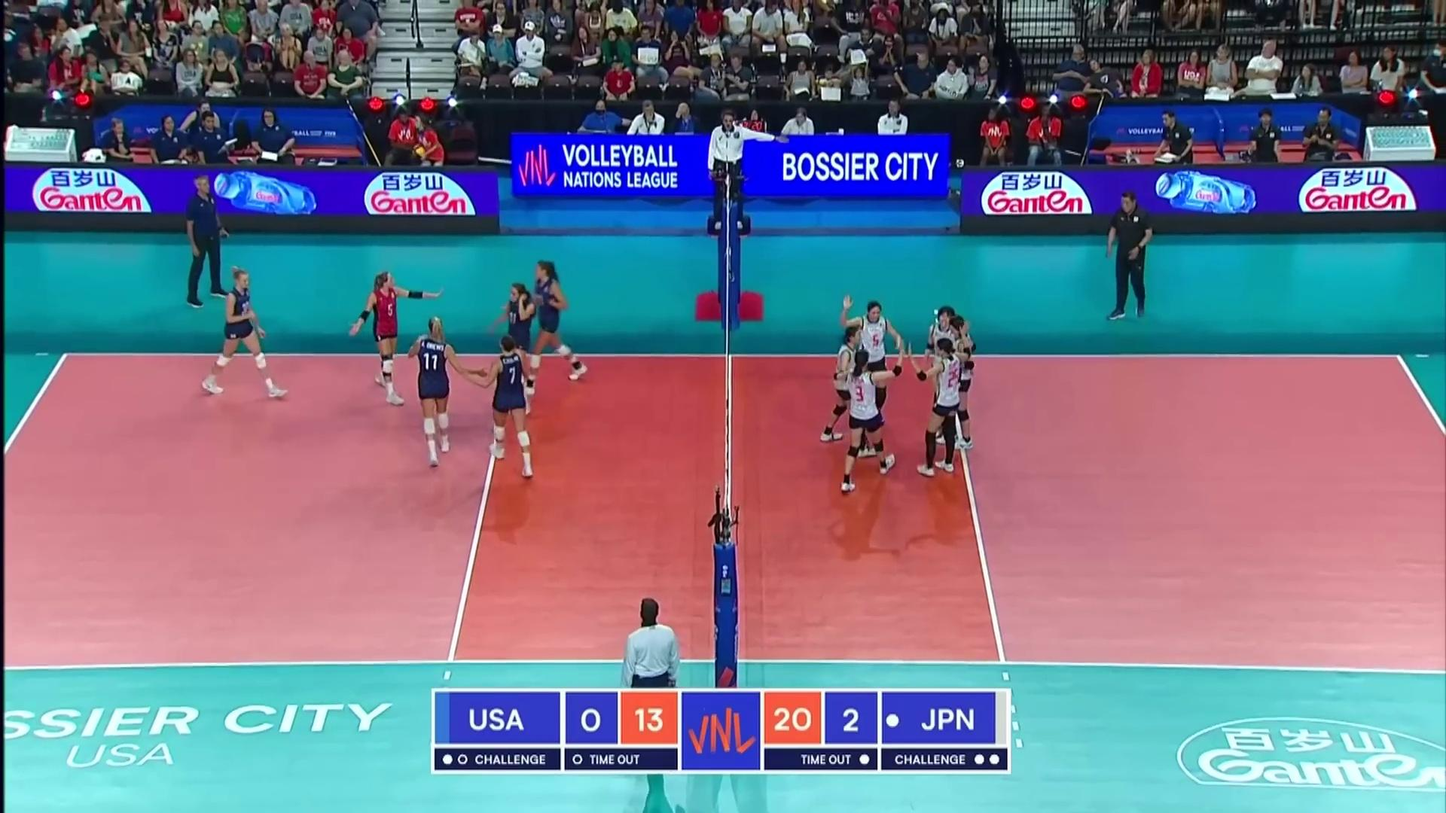player: (353, 268, 437, 408), (199, 269, 281, 401), (403, 316, 470, 468), (838, 346, 903, 496), (477, 326, 539, 479), (530, 259, 591, 385), (819, 329, 877, 444), (851, 298, 898, 425), (920, 340, 962, 480), (937, 316, 981, 449), (497, 280, 539, 417), (928, 307, 964, 442)
refree: (620, 597, 683, 738), (710, 107, 770, 230)
